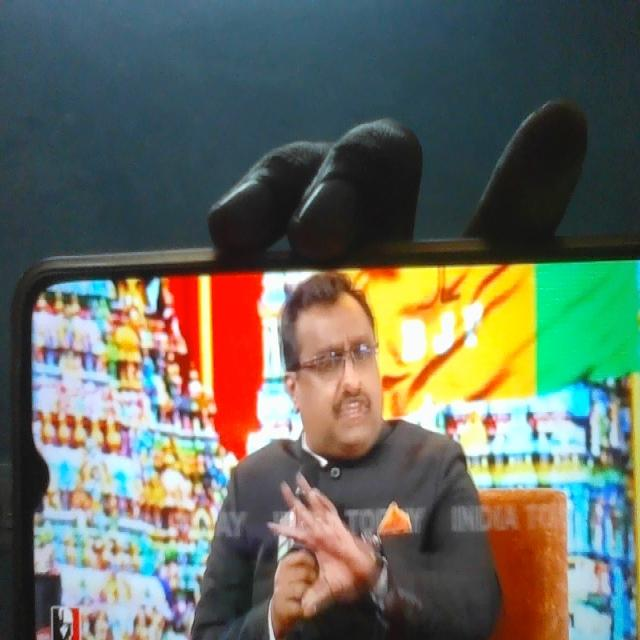fake: (287, 254, 399, 466)
